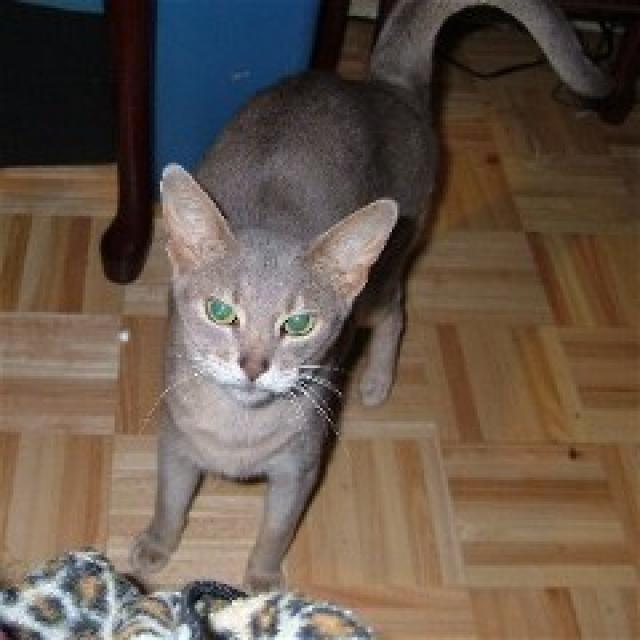Abyssinian: (154, 158, 399, 410)
